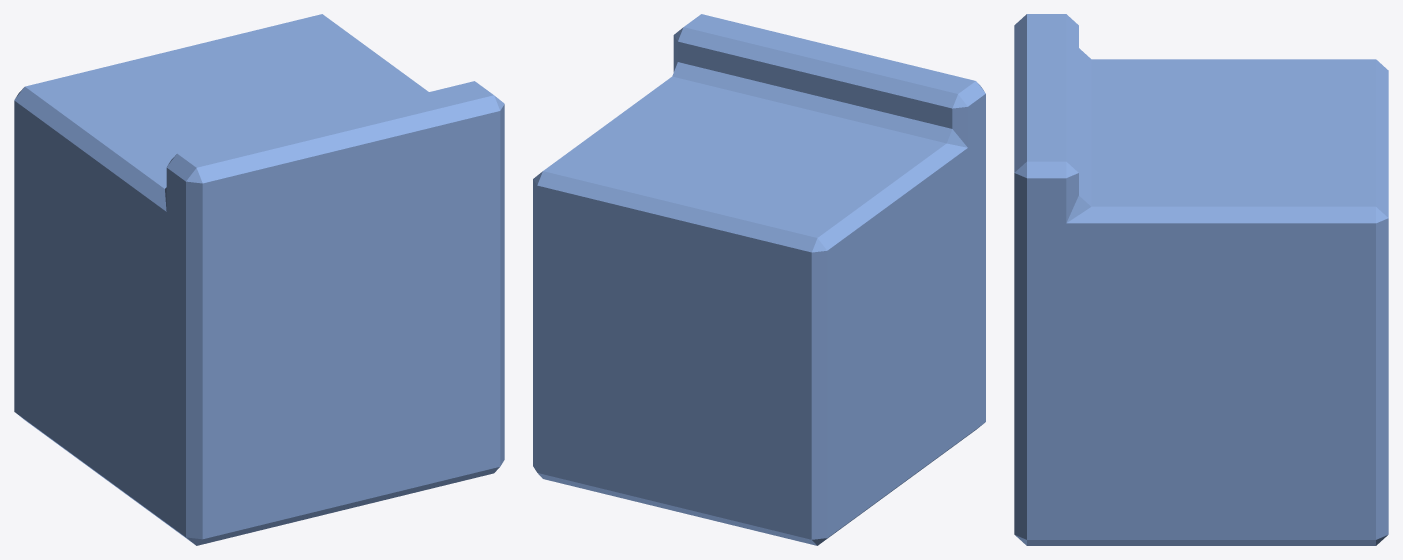
3 views of the same model, side by side, from view 1: azimuth 30°, elevation 25°; view 2: azimuth 150°, elevation 25°; view 3: azimuth 270°, elevation 25° (orthographic). The views are drawn at different scales.
Parts seen in each view (by area): view 1: Cube.020; view 2: Cube.020; view 3: Cube.020.
Boxes of the visible parts, box(x1,y1,x2,y2) form: Cube.020: box(14, 14, 504, 545); Cube.020: box(533, 14, 985, 545); Cube.020: box(1014, 14, 1388, 545).
Size of the model in its own units: 200 by 227 by 200.
